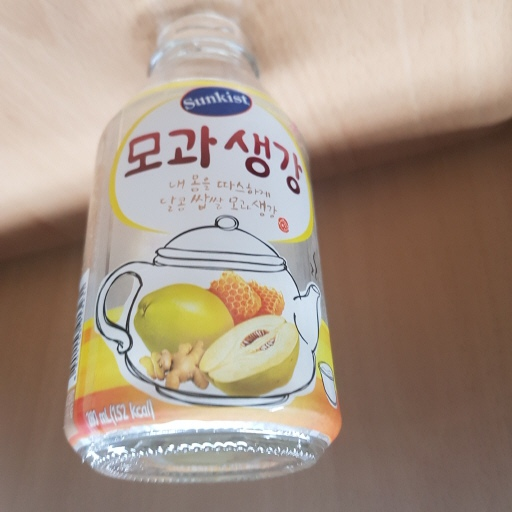Glass_4: (64, 16, 346, 485)
